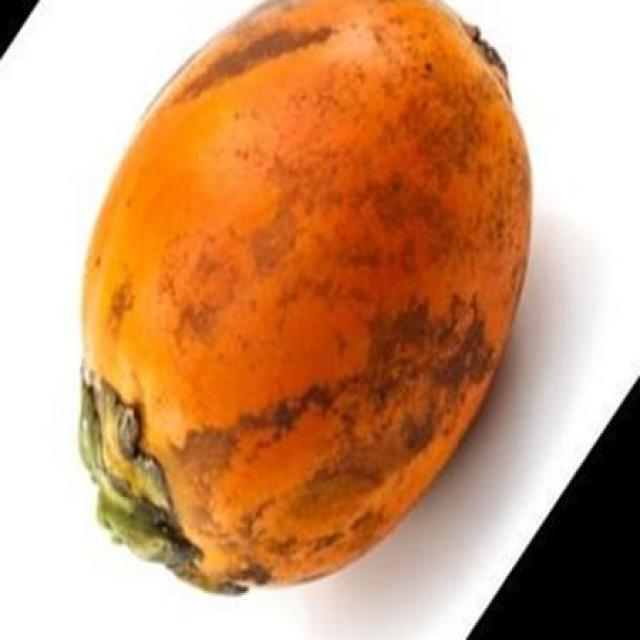good: (75, 0, 532, 599)
